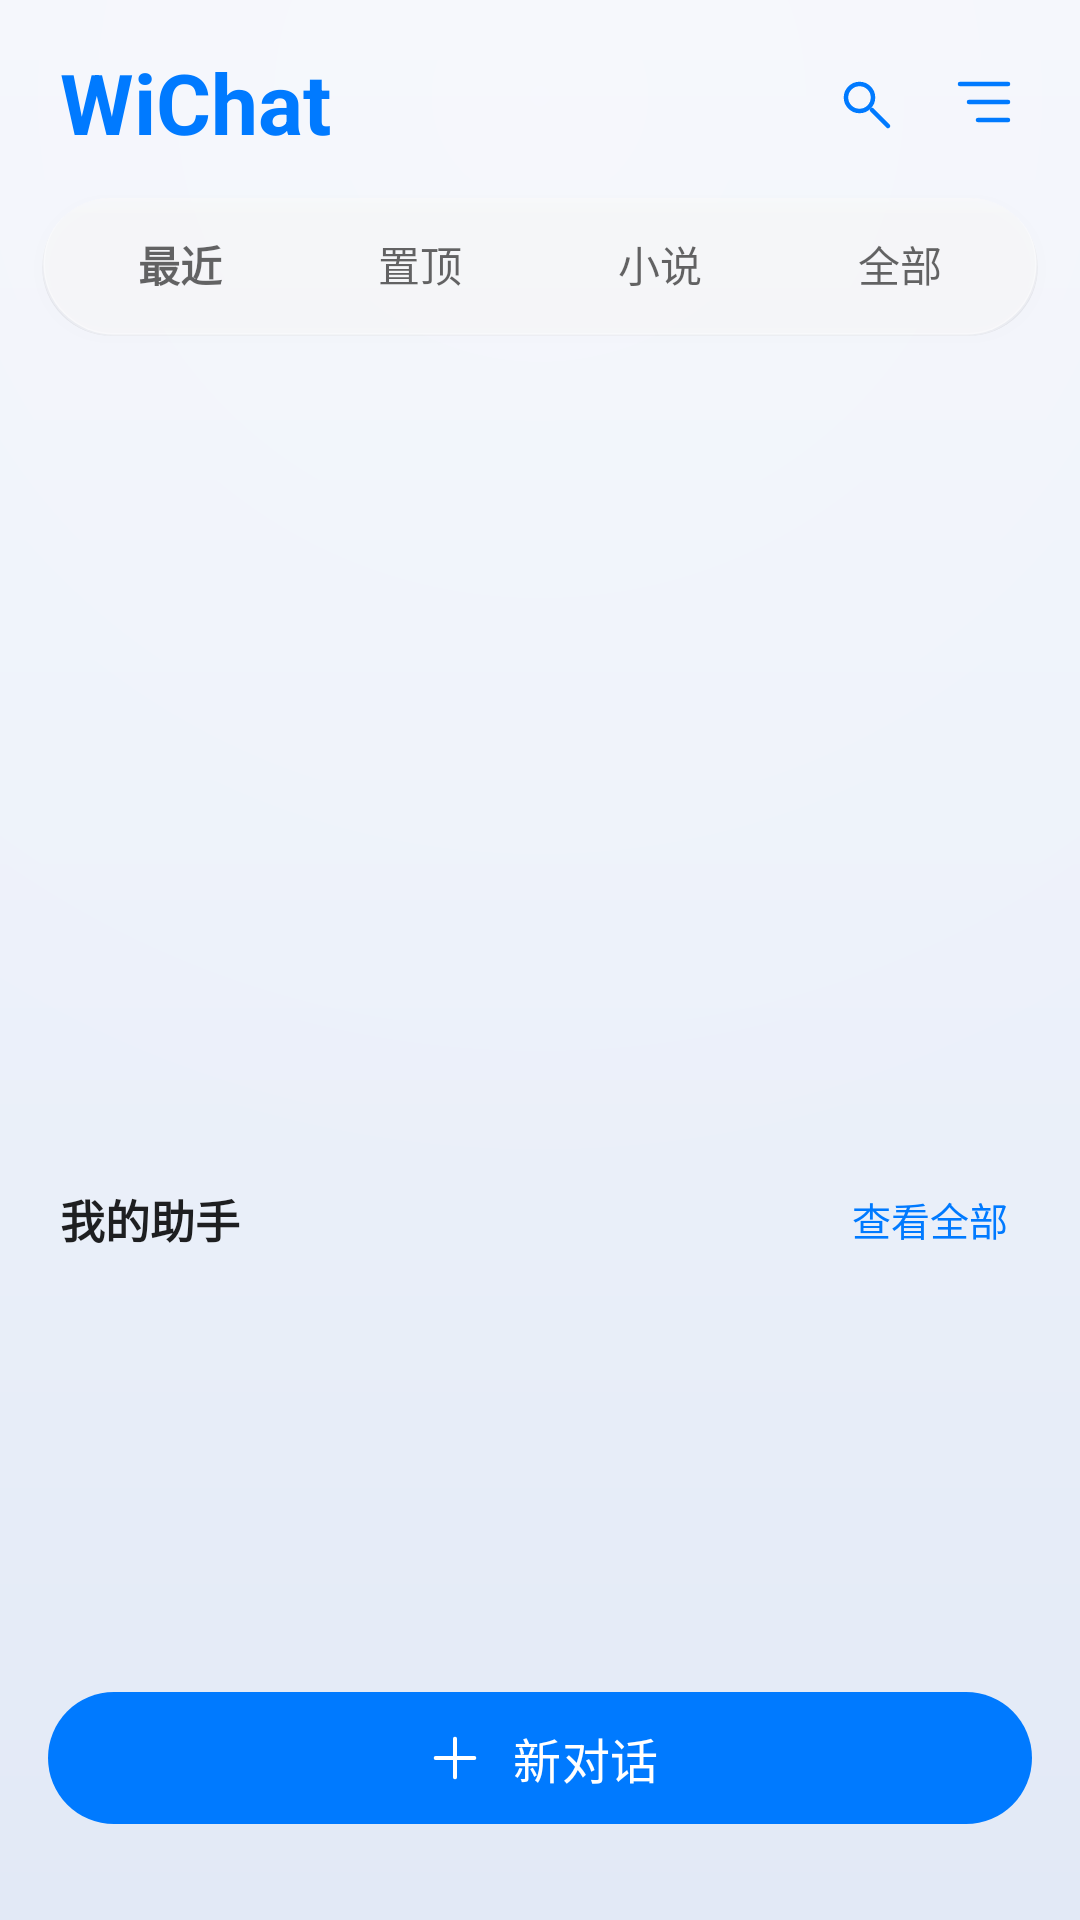

Named icons in this screenshot (1080px x 1920px) and their centers, point (x, y):
搜索…: point (867, 105)
